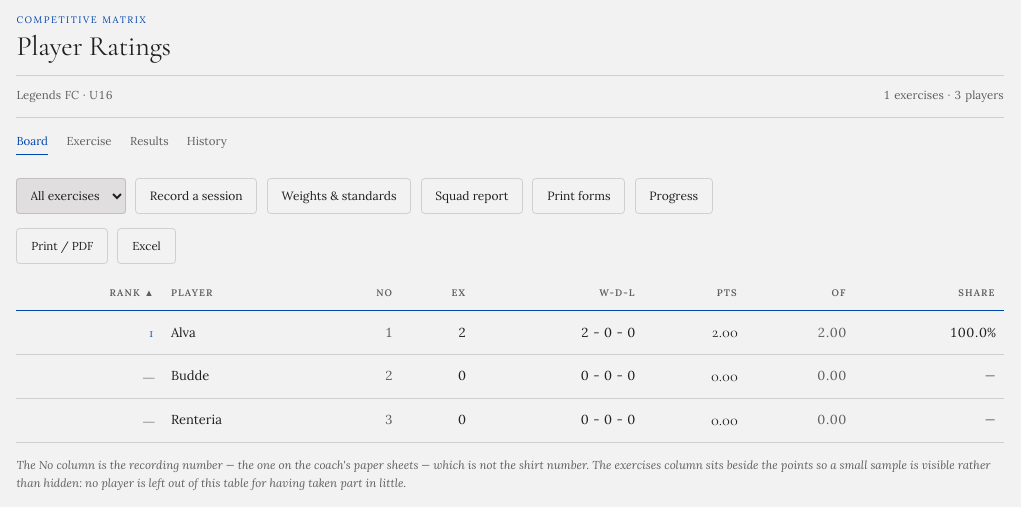
Test: recording a session › says so rather than showing an empty table for an exercise never recorded
This screenshot has width=1021, height=507.
Select "Small Sided" in the dropdown named "Exercise" at {"x": 71, "y": 196}, box [16,178,126,214]
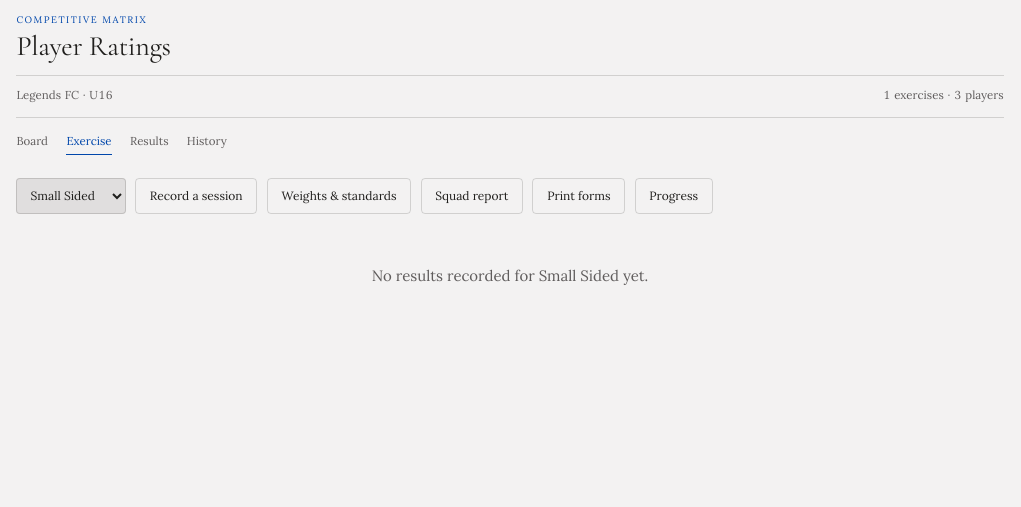
Now the text "No results recorded for Small Sided yet." is shown, box [372,266,648,286]
